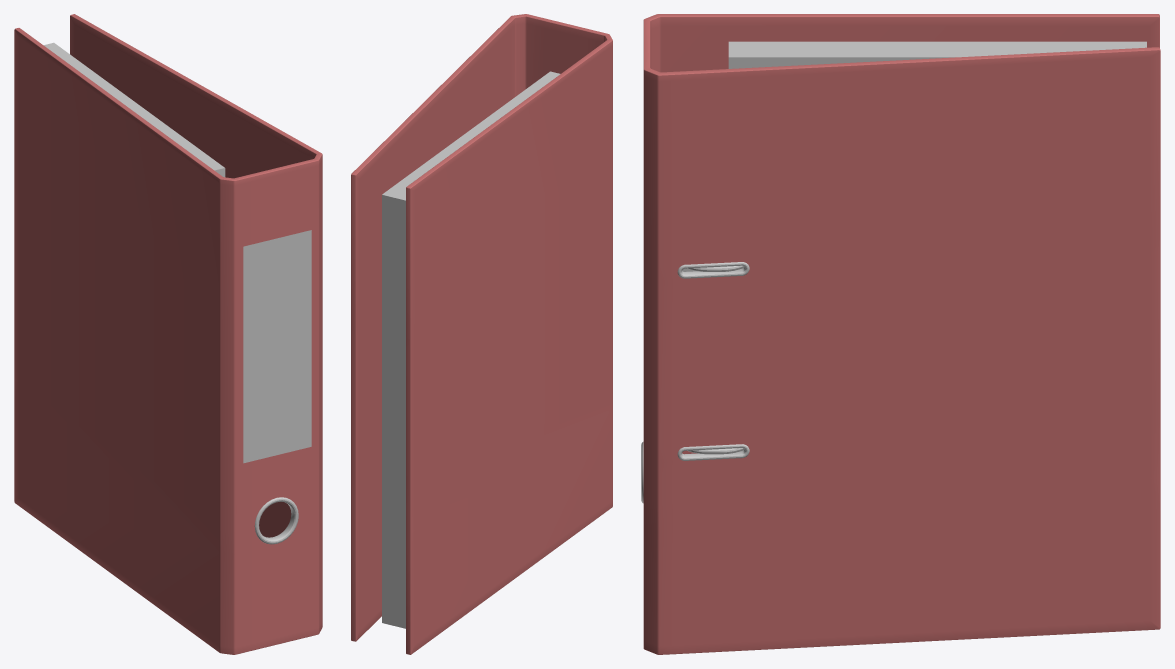
Rendered from Office Folder.fbx.
The picture shows the model from 3 angles, left to right: view 1: azimuth 30°, elevation 25°; view 2: azimuth 150°, elevation 25°; view 3: azimuth 270°, elevation 25°; orthographic projection. The views are drawn at different scales.
Visible parts, largest first — view 1: Office_folder, Paper; view 2: Office_folder, Paper; view 3: Office_folder, Paper.
Boxes of the visible parts, x1,y1,x2,y2 form: Office_folder: (14,14,322,654); Paper: (44,42,225,177); Office_folder: (351,14,612,654); Paper: (382,71,560,628); Office_folder: (641,14,1160,654); Paper: (728,41,1146,451).
Size of the model in its own units: 7.36 by 32.39 by 26.27.
